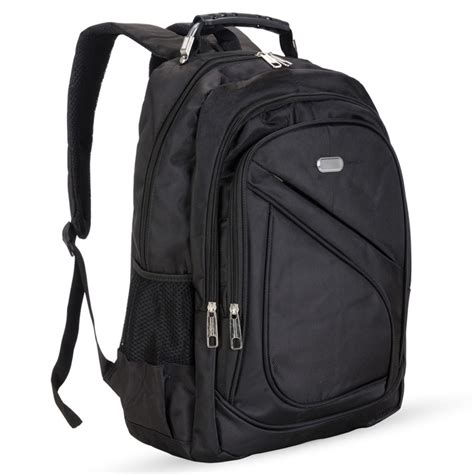nylon: (64, 11, 413, 462)
